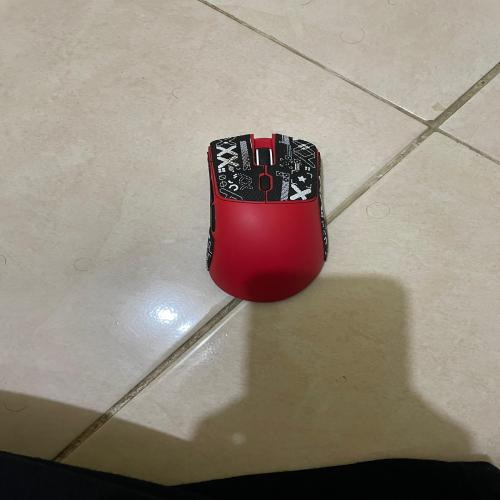Mouse: (199, 124, 346, 317)
